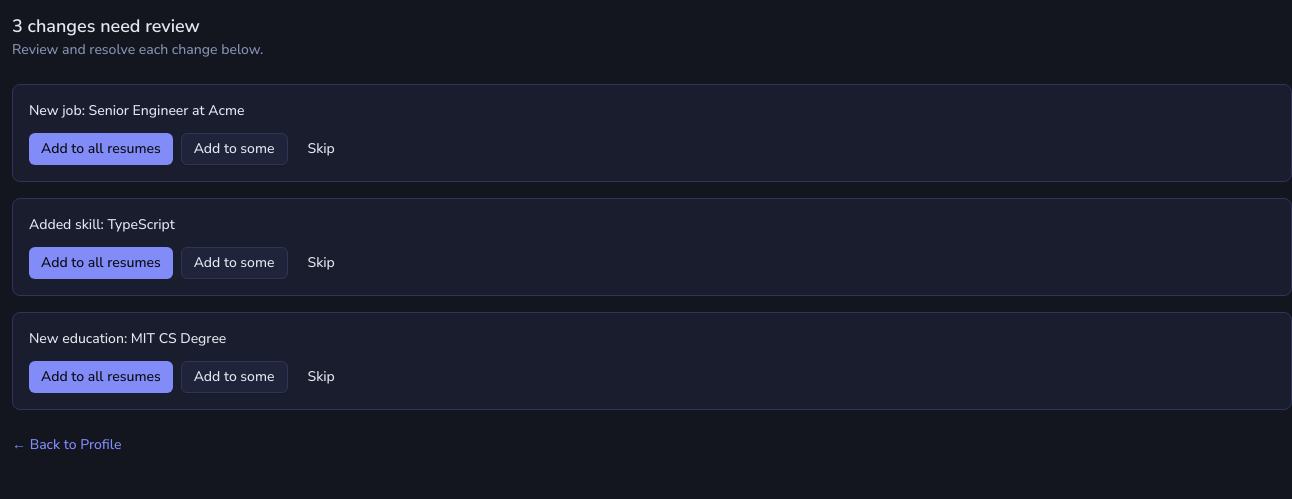
it: ChangeFlagsResolver › resolution — add to all › shows per-flag error on PATCH failure
The width and height of the screenshot is (1292, 499).
Click the button with test id "add-all-1" at x=101, y=149, box [29,133,173,165]
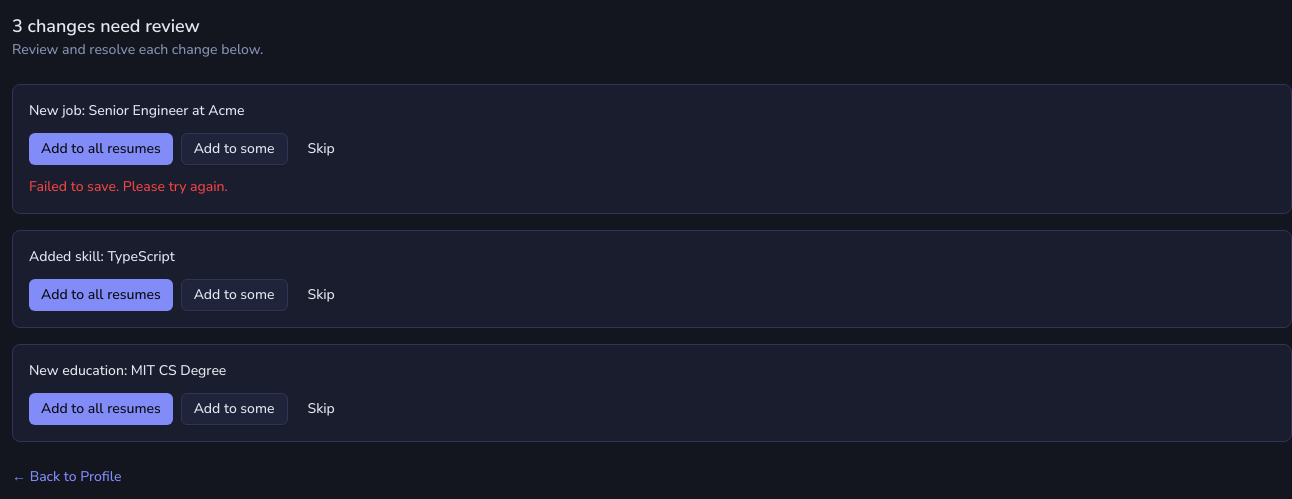
Result: the text "Failed to save. Please try again." is shown at [29,177,228,196]
